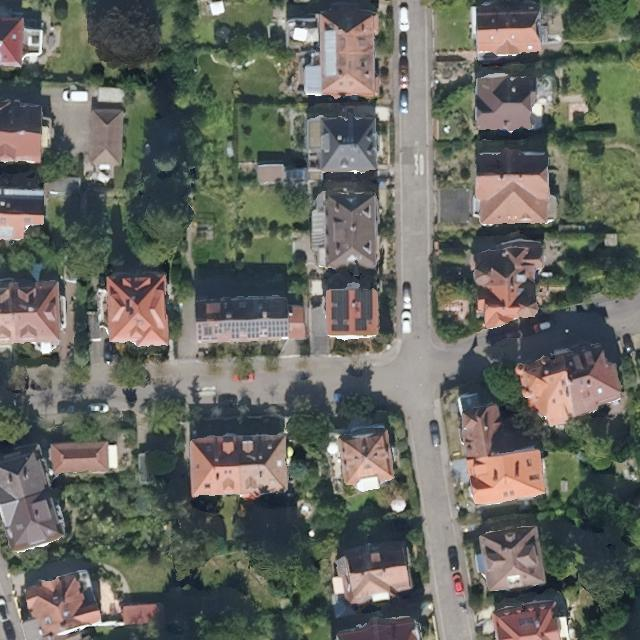PV: (194, 318, 290, 344), (329, 288, 351, 333), (353, 287, 374, 332)
